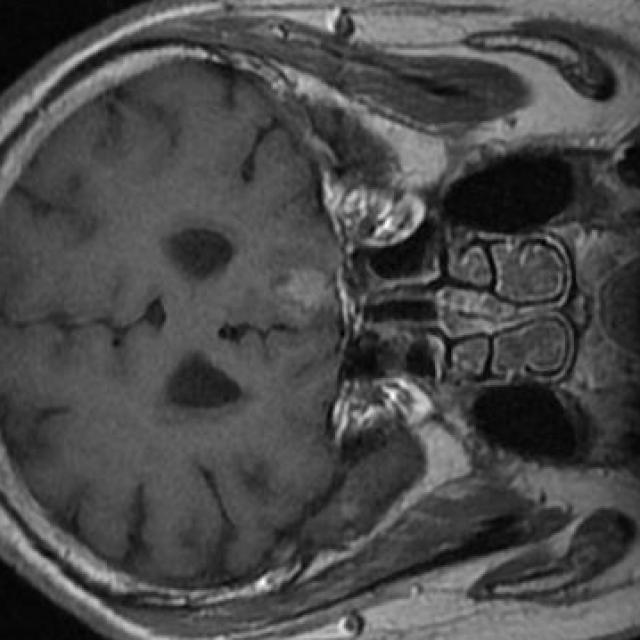pituitary: (275, 269, 333, 317)
